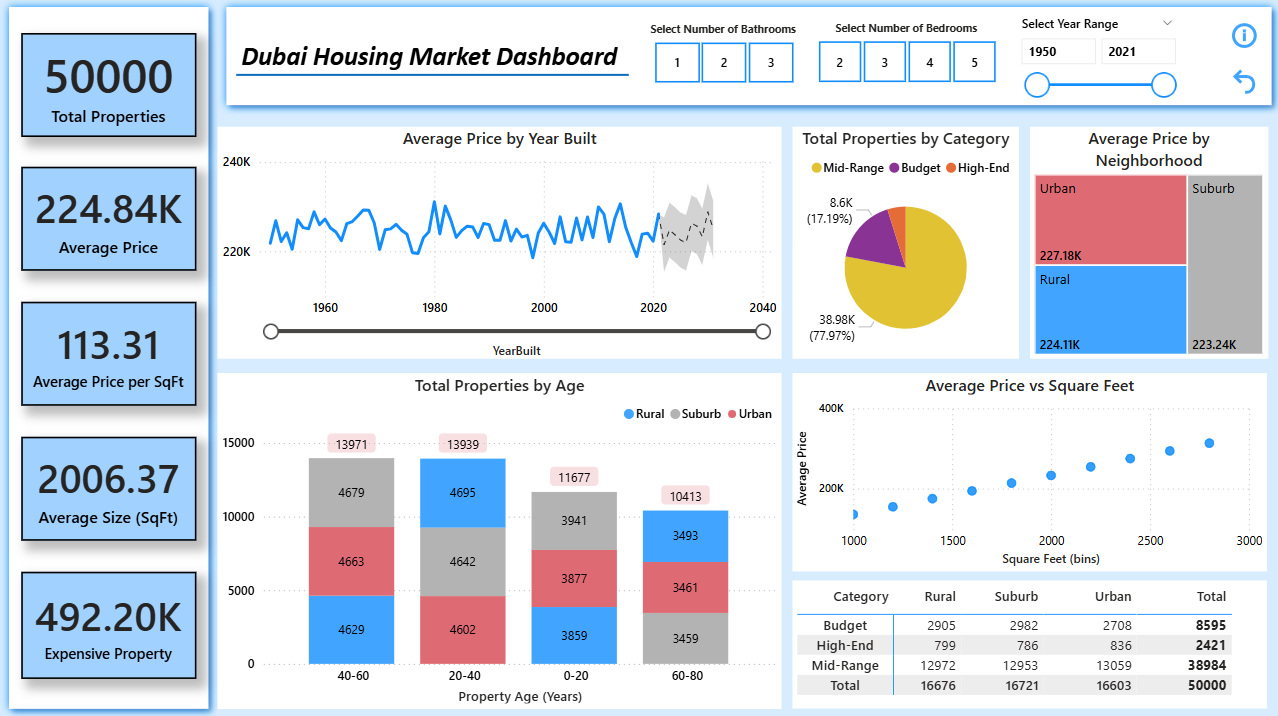

What the dashboard file says about the page in this screenshot:
{"tool":"powerbi","page":{"name":"Dubai House ","canvas":[1280,720],"ordinal":0},"visuals":[{"type":"shape","box":[0,0,217.3,719.8],"z":0},{"type":"lineChart","title":"Average Price by Year Built","fields":{"Category":["Dubai Dataset.YearBuilt"],"Y":["AllMeasures.Average Price"]},"box":[217.3,128.4,564.2,232.1],"z":1000},{"type":"card","fields":{"Values":["AllMeasures.Total Listings"]},"box":[21,34.6,175.3,103.7],"z":2000},{"type":"card","fields":{"Values":["AllMeasures.Average Price"]},"box":[21,169.4,175.3,103.7],"z":3000},{"type":"card","fields":{"Values":["AllMeasures.Average Price per SqFt"]},"box":[21,304.2,175.3,103.7],"z":4000},{"type":"card","fields":{"Values":["AllMeasures.Average Size"]},"box":[21,439,175.3,103.7],"z":5000},{"type":"card","fields":{"Values":["AllMeasures.Highest Price of Property"]},"box":[21.2,573.8,175,107.5],"z":6000},{"type":"shape","box":[217.3,0,1063,116],"z":7000},{"type":"slicer","fields":{"Values":["Dubai Dataset.YearBuilt"]},"box":[1008.8,12.5,176.2,88.8],"z":8000},{"type":"slicer","title":"Select Number of Bathrooms","fields":{"Values":["Dubai Dataset.Bathrooms"]},"box":[628.8,23.8,188.8,67.5],"z":9000},{"type":"slicer","title":"Select Number of Bedrooms","fields":{"Values":["Dubai Dataset.Bedrooms"]},"box":[792.5,22.5,227.5,68.8],"z":10000},{"type":"columnChart","title":"Total Properties by Age ","fields":{"Category":["Dubai Dataset.Agewise"],"Series":["Dubai Dataset.Neighborhood"],"Y":["AllMeasures.Total Listings"]},"box":[217.3,375.3,564.2,335.8],"z":11000},{"type":"textbox","box":[235.8,35.8,412.3,44.4],"z":12000},{"type":"treemap","fields":{"Group":["Dubai Dataset.Neighborhood"],"Values":["AllMeasures.Average Price"]},"box":[1029.6,128.2,238,232.4],"z":13000},{"type":"pieChart","title":"Total Properties by Category","fields":{"Category":["Dubai Dataset.Category"],"Y":["CountNonNull(Dubai Dataset.Index)"]},"box":[793,128.2,226.8,232.4],"z":14000},{"type":"scatterChart","title":"Average Price  vs Square Feet","fields":{"X":["Dubai Dataset.SquareFeet (bins)"],"Y":["Avg(Dubai Dataset.Price)"]},"box":[793,374.6,474.6,198.6],"z":15000},{"type":"pivotTable","fields":{"Columns":["Dubai Dataset.Neighborhood"],"Rows":["Dubai Dataset.Category"],"Values":["CountNonNull(Dubai Dataset.Index)"]},"box":[793,583.1,474.6,128.2],"z":16000},{"type":"actionButton","box":[1227.5,17.5,33.8,40],"z":17000},{"type":"actionButton","box":[1227.5,65,33.8,36.2],"z":18000},{"type":"shape","box":[236.2,65,392.5,23.8],"z":19000}]}

Visuals, with their boxes in screenshot pixels (x1, y1, x2, y2), scaled from the page's 1280x720 canvas onto the 1278x716 screenshot:
shape: <region>0, 0, 217, 715</region>
"Average Price by Year Built" lineChart: <region>217, 128, 780, 358</region>
card - AllMeasures.Total Listings: <region>21, 34, 196, 138</region>
card - AllMeasures.Average Price: <region>21, 168, 196, 272</region>
card - AllMeasures.Average Price per SqFt: <region>21, 303, 196, 406</region>
card - AllMeasures.Average Size: <region>21, 437, 196, 540</region>
card - AllMeasures.Highest Price of Property: <region>21, 571, 196, 678</region>
shape: <region>217, 0, 1277, 115</region>
slicer - Dubai Dataset.YearBuilt: <region>1007, 12, 1183, 101</region>
"Select Number of Bathrooms" slicer: <region>628, 24, 816, 91</region>
"Select Number of Bedrooms" slicer: <region>791, 22, 1018, 91</region>
"Total Properties by Age " columnChart: <region>217, 373, 780, 707</region>
textbox: <region>235, 36, 647, 80</region>
treemap - Dubai Dataset.Neighborhood x AllMeasures.Average Price: <region>1028, 127, 1266, 359</region>
"Total Properties by Category" pieChart: <region>792, 127, 1018, 359</region>
"Average Price  vs Square Feet" scatterChart: <region>792, 373, 1266, 570</region>
pivotTable - Dubai Dataset.Neighborhood x Dubai Dataset.Category: <region>792, 580, 1266, 707</region>
actionButton: <region>1226, 17, 1259, 57</region>
actionButton: <region>1226, 65, 1259, 101</region>
shape: <region>236, 65, 628, 88</region>
